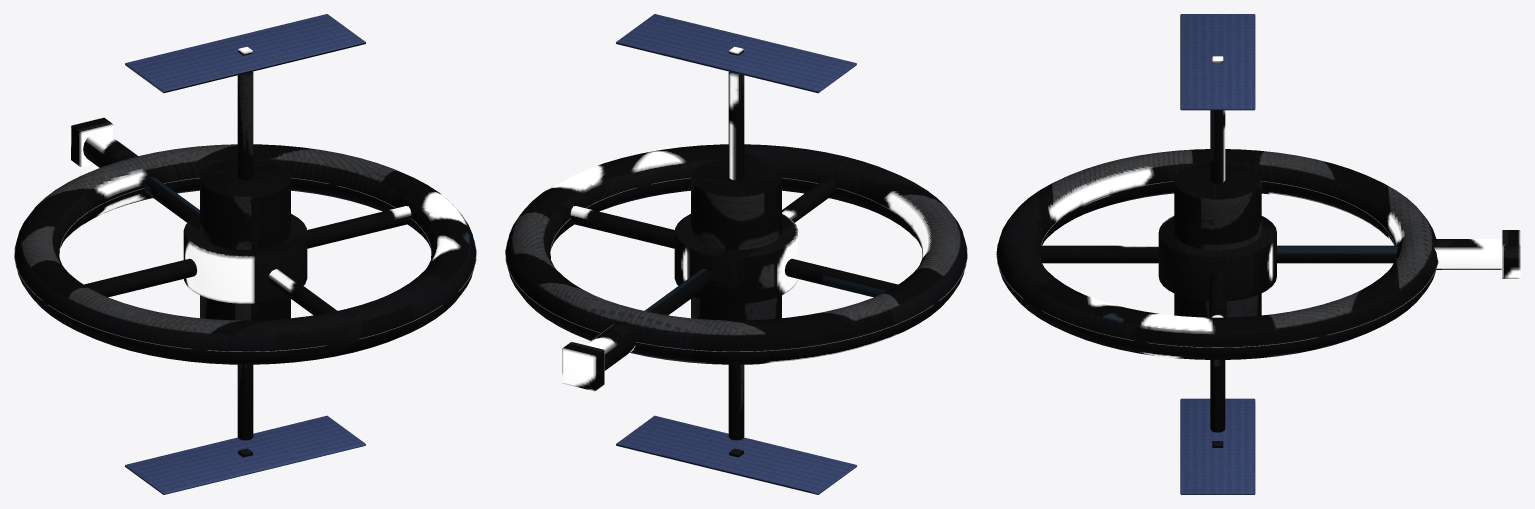
Rendered from station.glb.
3 views of the same model, side by side, from view 1: azimuth 30°, elevation 25°; view 2: azimuth 150°, elevation 25°; view 3: azimuth 270°, elevation 25° (orthographic). The views are drawn at different scales.
Parts seen in each view (by area): view 1: station; view 2: station; view 3: station.
Boxes of the visible parts, x1,y1,x2,y2 form: station: [14, 14, 476, 494]; station: [505, 14, 967, 494]; station: [996, 14, 1520, 494].
Size of the model in its own units: 7.1 by 6.94 by 8.4.
5 materials, 5 textured.
